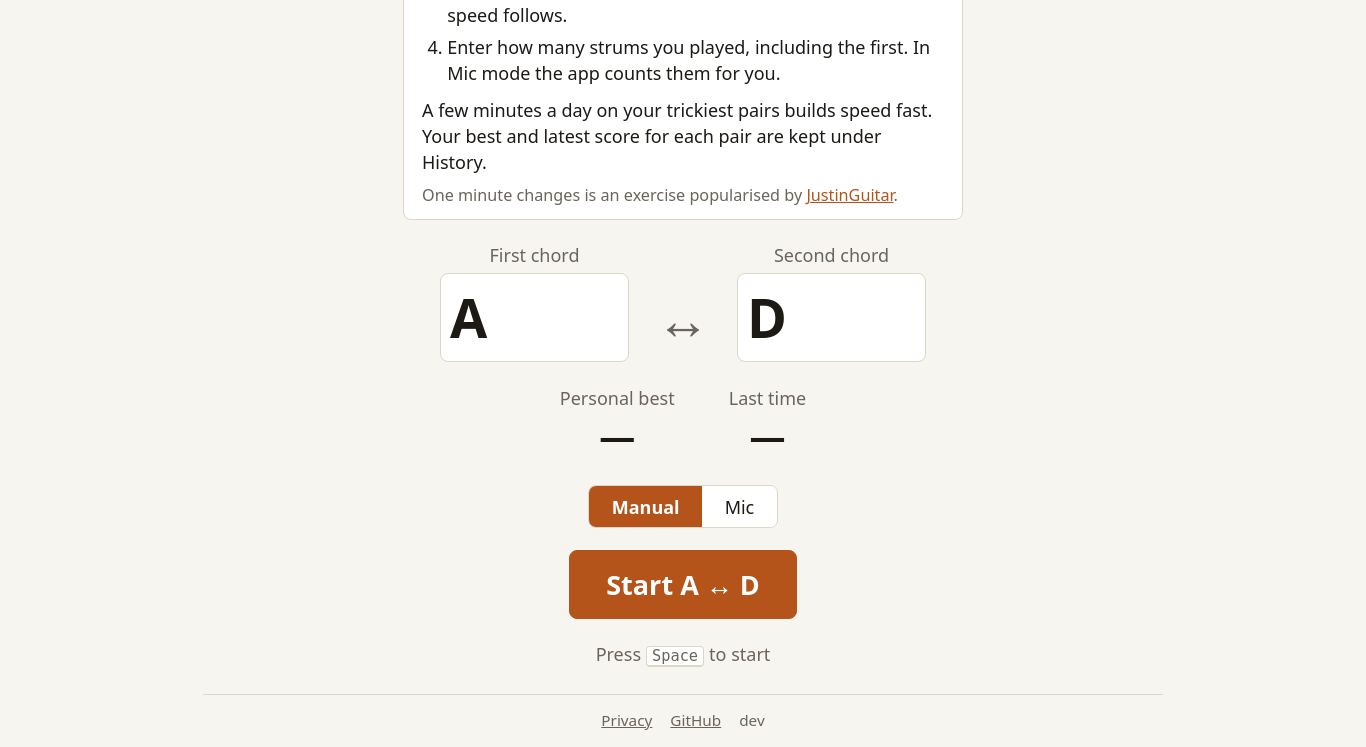
denied permission shows a message and stays on Manual
The width and height of the screenshot is (1366, 747).
(page scrolled)
Click the radio button labelled "Mic" at (739, 507), box [702,486,777,527]
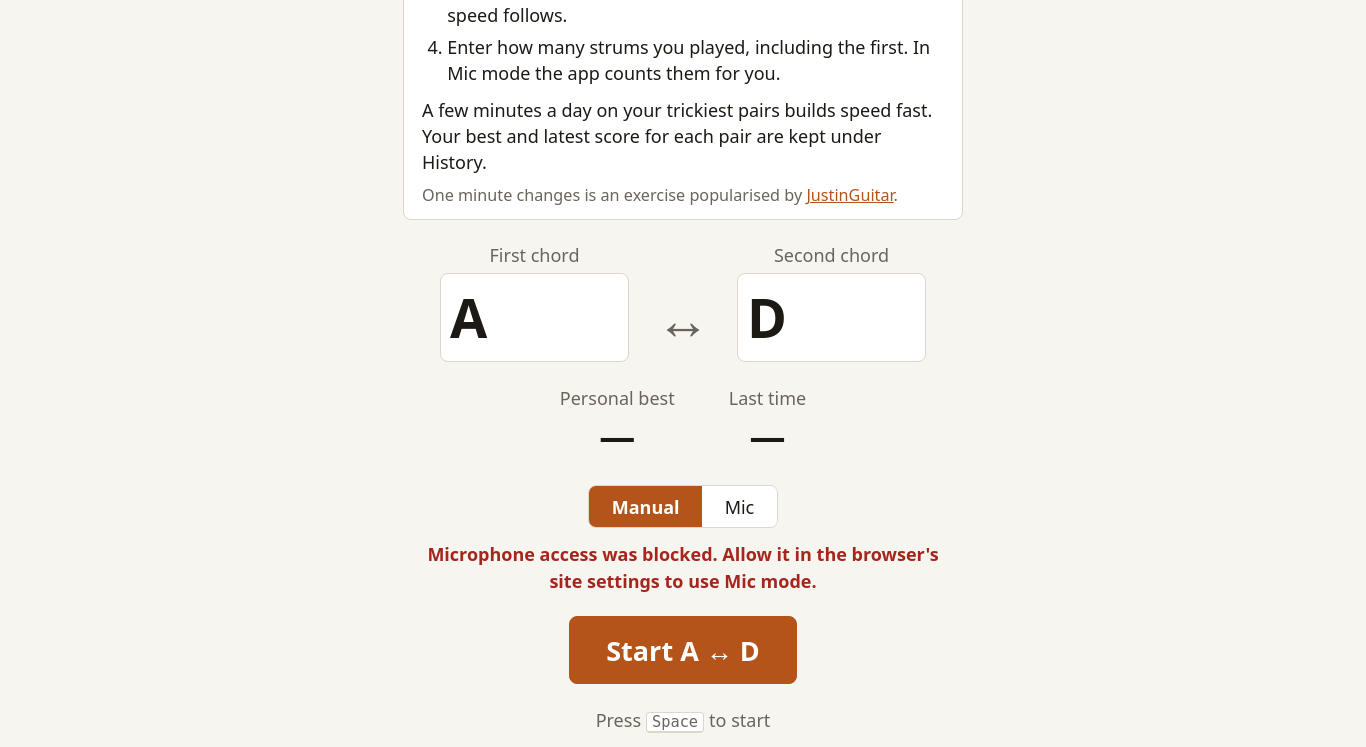
Result: the message shows "Microphone access was blocked" at [427,542,939,592]
